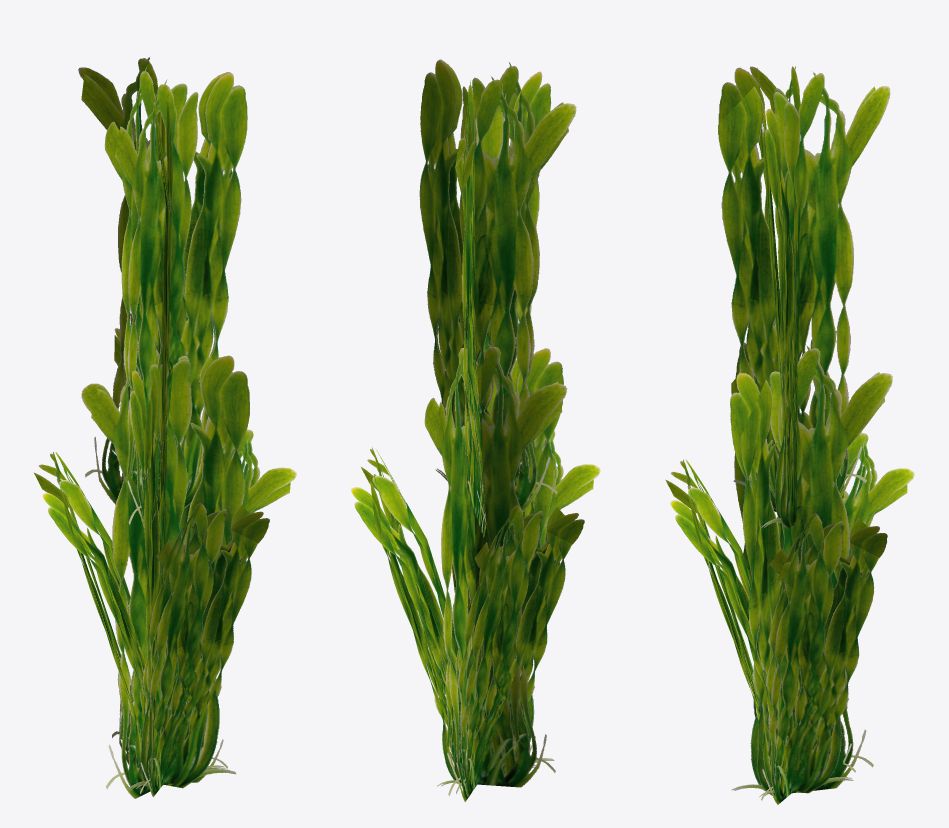
File: Kelp_01.dae
3 renders of one model, left to right at view 1: azimuth 30°, elevation 25°; view 2: azimuth 150°, elevation 25°; view 3: azimuth 270°, elevation 25°, orthographic.
Parts seen in each view (by area): view 1: KelpOne128, KelpOne256; view 2: KelpOne256, KelpOne128; view 3: KelpOne128, KelpOne256.
Boxes of the visible parts, left/top/right/bottom form: KelpOne128: left=34, top=57, right=290, bottom=790; KelpOne256: left=38, top=58, right=297, bottom=798; KelpOne256: left=351, top=60, right=600, bottom=801; KelpOne128: left=361, top=59, right=593, bottom=786; KelpOne128: left=665, top=68, right=907, bottom=797; KelpOne256: left=670, top=66, right=914, bottom=804.
Bounding box in the file's own units: 63.5 × 60.96 × 175.
